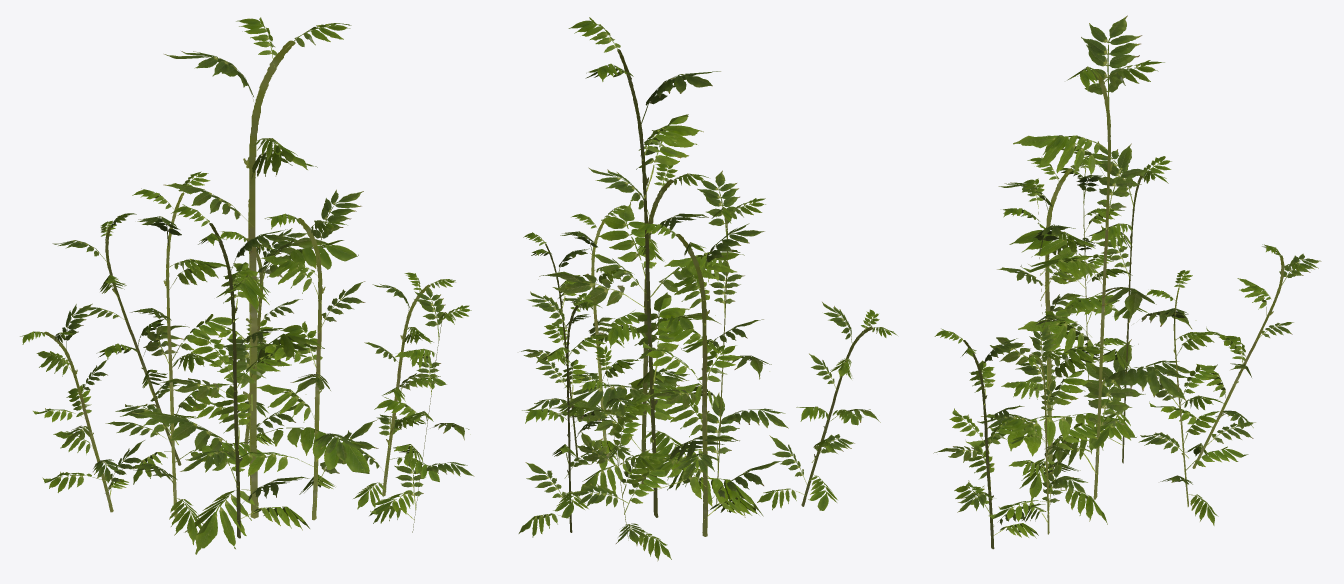
File: grass_04.glb
The picture shows the model from 3 angles, left to right: view 1: azimuth 30°, elevation 25°; view 2: azimuth 150°, elevation 25°; view 3: azimuth 270°, elevation 25°; orthographic projection. The views are drawn at different scales.
Visible parts, largest first — view 1: Object_2; view 2: Object_2; view 3: Object_2.
Part boxes in pixels (x1,y1,x2,y2): Object_2: (20,17,474,554); Object_2: (518,17,897,561); Object_2: (933,15,1321,549).
Size of the model in its own units: 2.31 by 2.82 by 2.02.
1 material, 1 textured.
